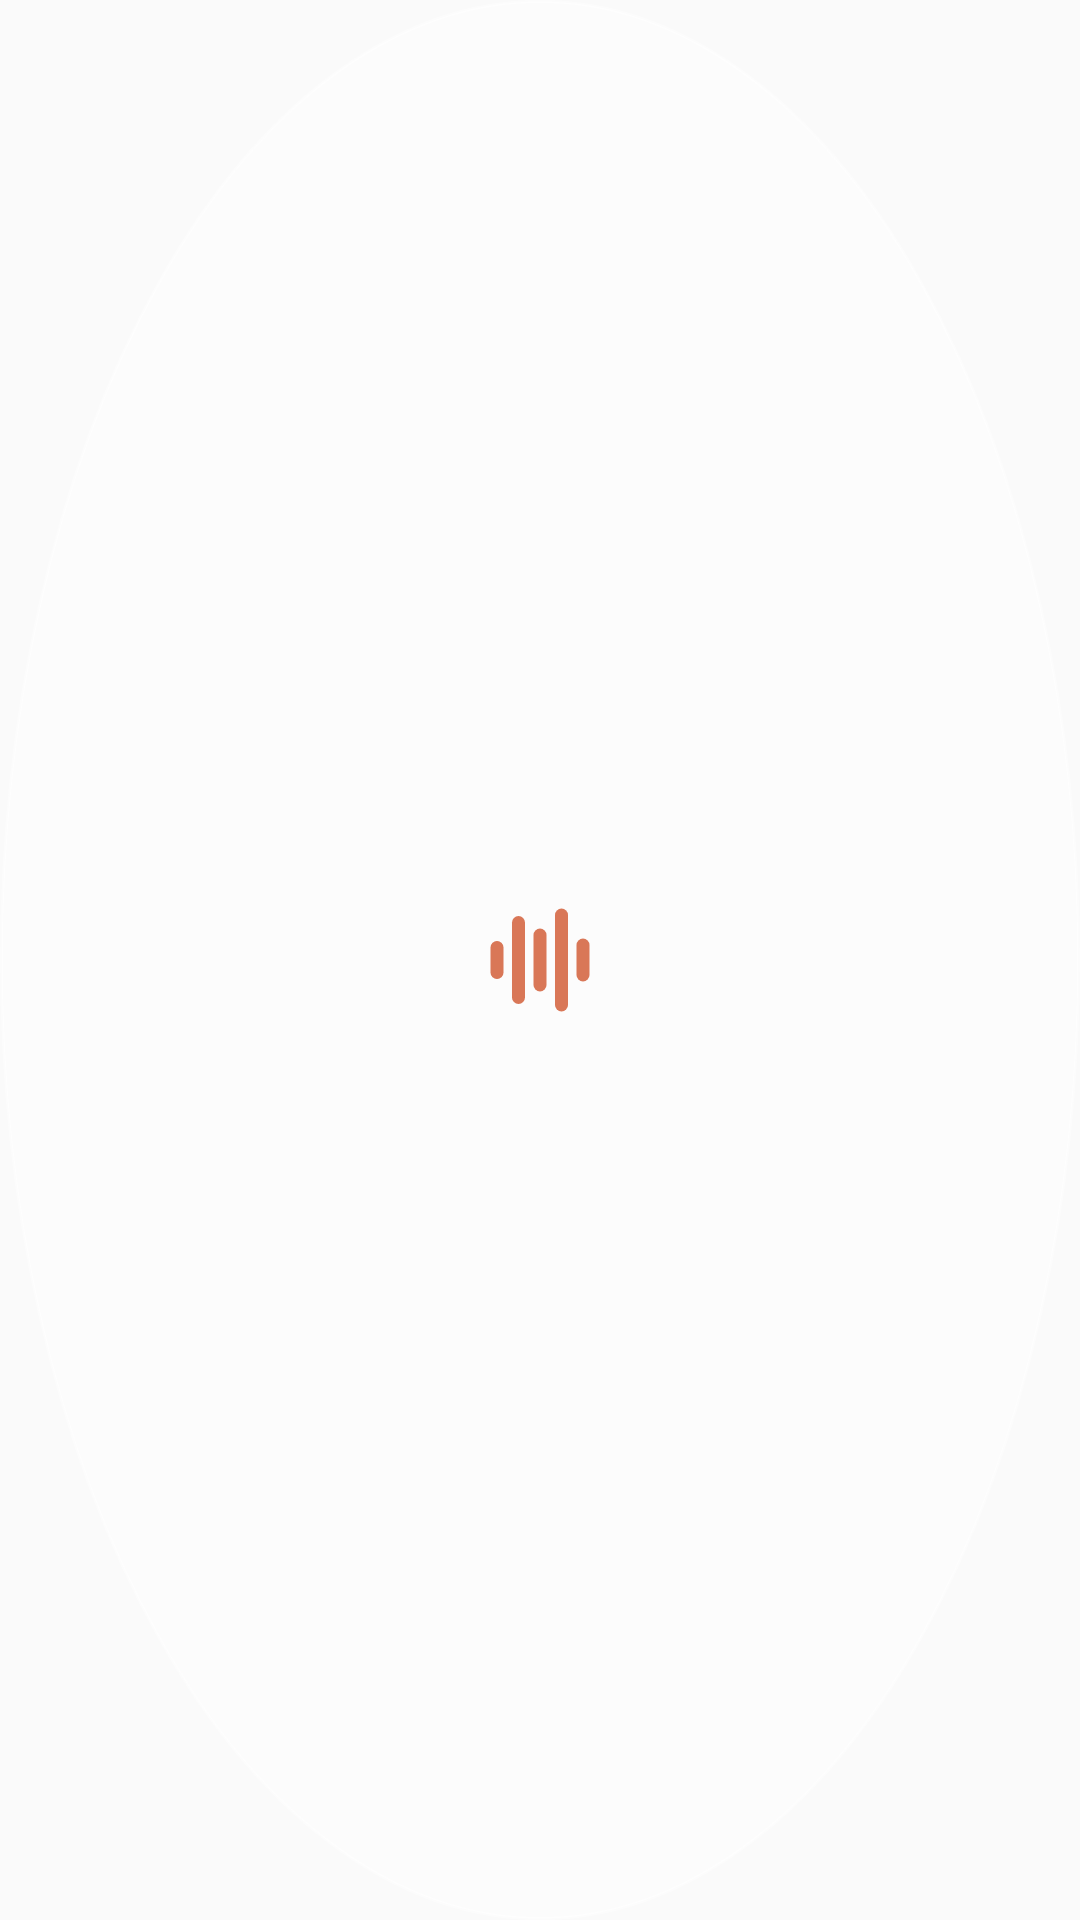

Where icons sit on this 1080×1920 app screen, as bbox=[x1, y1, x2, y2]:
wave: bbox=[490, 908, 590, 1012]
